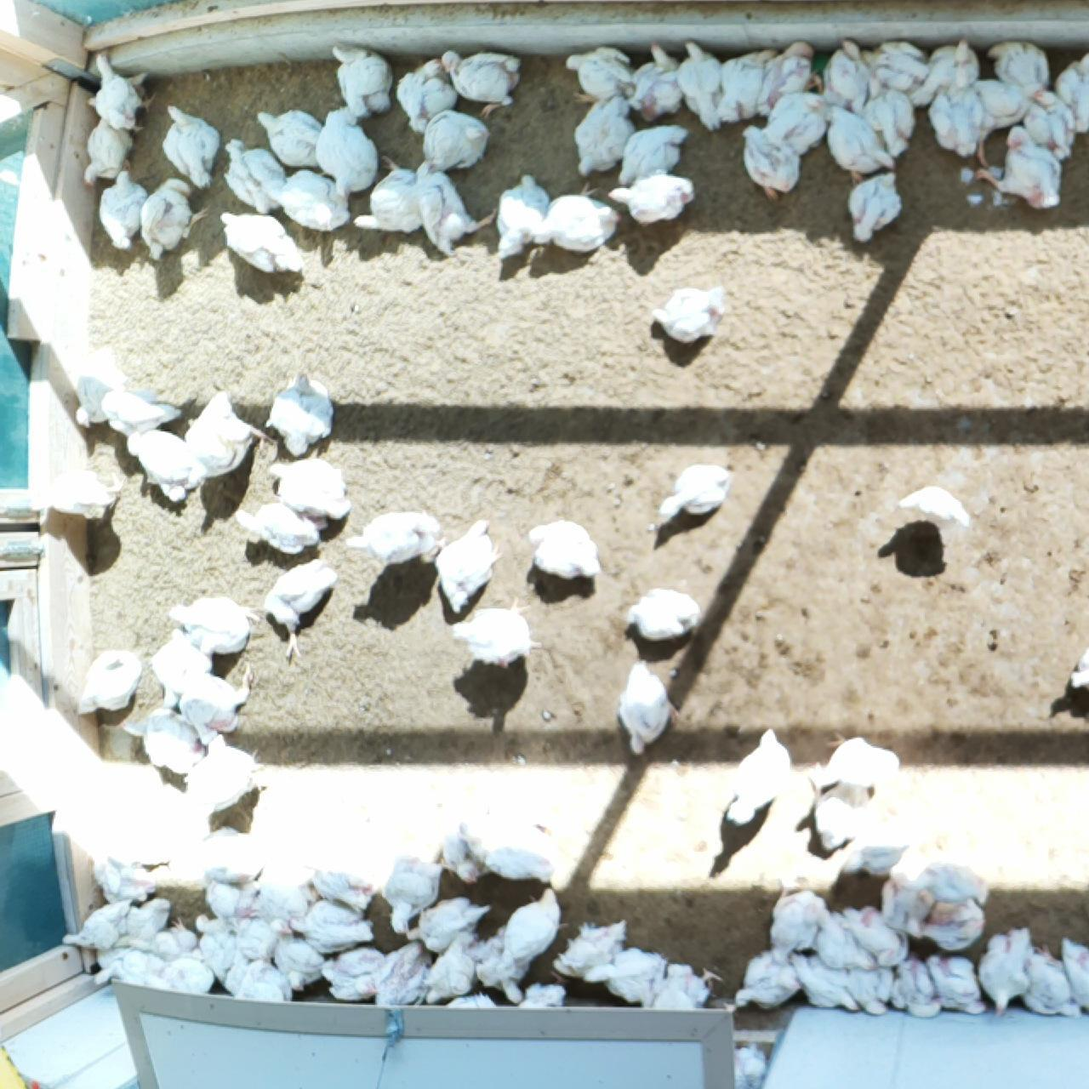chicken: (184, 389, 275, 489), (412, 155, 496, 256), (972, 123, 1063, 210), (263, 557, 338, 659), (449, 597, 547, 673), (173, 663, 256, 746), (432, 518, 501, 617), (120, 420, 202, 503), (723, 728, 791, 826), (138, 177, 213, 263), (533, 182, 620, 256), (968, 79, 1042, 166), (260, 454, 354, 522), (257, 165, 351, 233), (262, 369, 334, 456), (187, 737, 267, 815), (616, 658, 679, 757), (313, 108, 382, 197), (804, 731, 902, 792), (355, 154, 430, 232), (605, 168, 697, 231), (345, 510, 446, 566), (120, 706, 203, 774), (168, 594, 262, 654), (218, 209, 302, 276), (823, 105, 897, 181), (232, 501, 333, 556), (221, 135, 291, 214), (157, 104, 222, 189), (572, 95, 637, 179), (84, 843, 172, 905), (654, 461, 734, 529), (647, 279, 727, 347), (624, 40, 687, 126), (440, 48, 522, 114), (807, 902, 878, 978), (504, 889, 569, 972), (27, 465, 128, 518), (150, 626, 215, 708), (614, 121, 691, 190), (83, 48, 147, 131), (379, 851, 442, 935), (326, 44, 397, 118), (977, 924, 1034, 1016), (295, 849, 375, 914), (468, 925, 532, 1006), (740, 120, 804, 201), (912, 38, 981, 113), (1020, 941, 1085, 1020), (929, 66, 983, 160), (418, 111, 490, 181), (755, 89, 828, 158), (493, 170, 550, 258), (675, 35, 726, 133), (288, 898, 374, 956), (402, 895, 491, 951), (73, 345, 129, 434), (757, 40, 824, 114), (892, 855, 991, 905), (712, 46, 775, 124), (811, 773, 871, 854), (841, 901, 911, 969), (74, 645, 140, 717), (582, 948, 668, 1003), (253, 108, 328, 171), (861, 70, 917, 154), (397, 55, 458, 132), (787, 947, 860, 1011), (731, 948, 806, 1010), (528, 518, 603, 580), (765, 891, 833, 959), (987, 37, 1054, 105), (482, 822, 559, 881), (551, 919, 629, 977), (624, 586, 704, 642), (196, 823, 267, 885), (99, 384, 179, 439), (1020, 85, 1077, 162), (563, 47, 636, 107), (821, 34, 877, 112), (98, 169, 147, 258), (219, 949, 292, 1007), (370, 941, 432, 1009), (847, 169, 902, 245), (878, 866, 934, 939), (82, 114, 138, 186), (926, 949, 985, 1017), (62, 899, 131, 957), (857, 38, 928, 94), (103, 896, 174, 951), (899, 482, 975, 533), (644, 961, 721, 1011), (269, 931, 330, 993), (436, 811, 485, 888), (886, 953, 944, 1018), (842, 820, 911, 874), (318, 943, 379, 1002), (421, 935, 475, 1001), (251, 876, 309, 937), (924, 896, 986, 951), (189, 914, 238, 982), (845, 950, 894, 1018), (146, 956, 217, 998), (201, 878, 255, 933), (1054, 49, 1089, 133), (142, 919, 199, 967), (88, 949, 154, 990), (1056, 935, 1089, 1012), (517, 971, 573, 1016), (238, 915, 295, 959), (721, 1041, 769, 1089), (1069, 642, 1089, 697)
